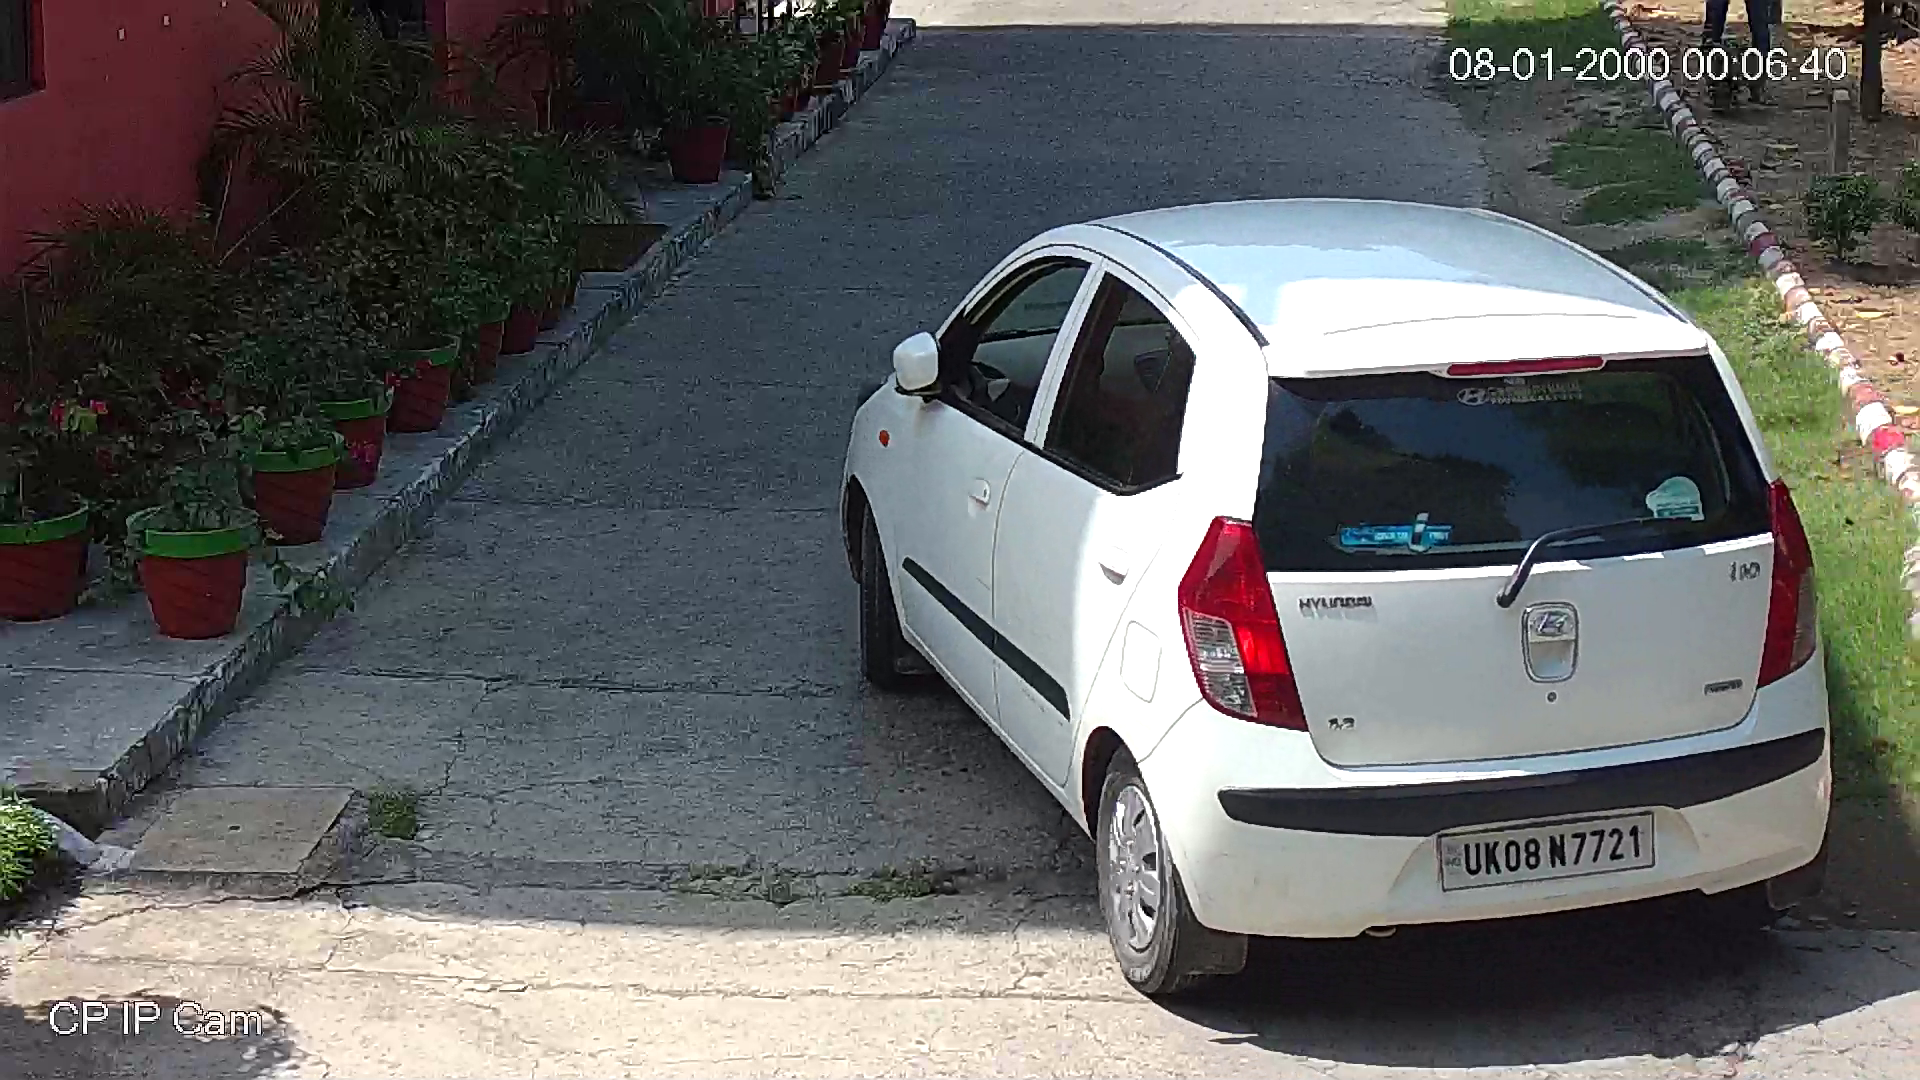plate: (1431, 798, 1660, 896)
